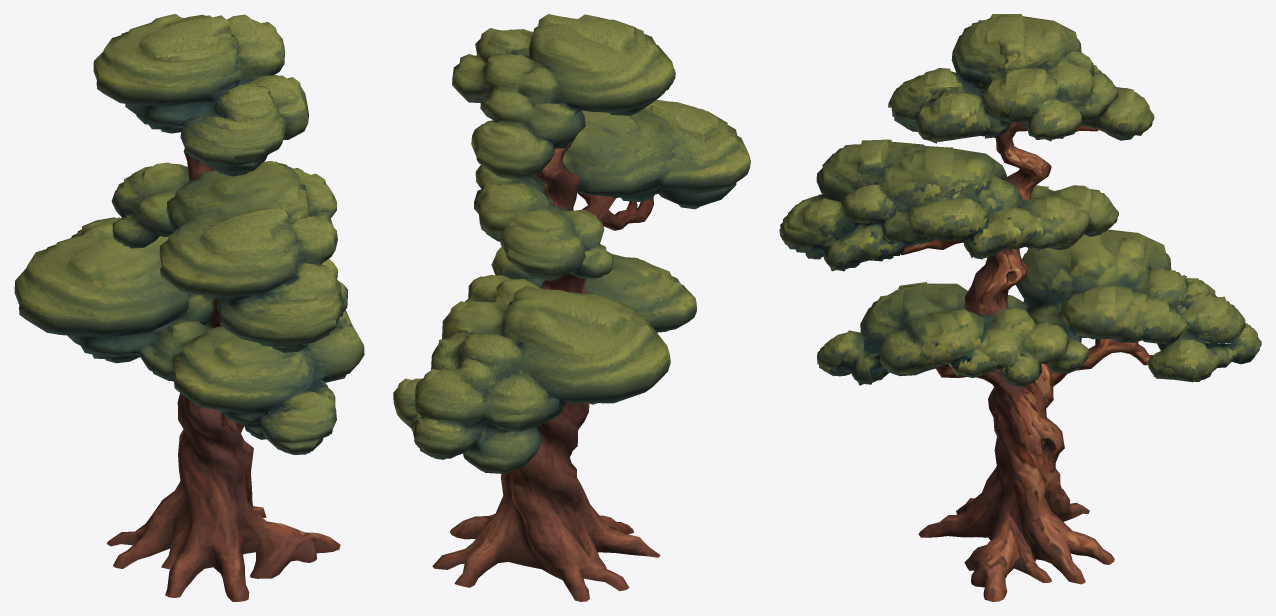
The model's file is output_model_url.glb.
3 renders of one model, left to right at view 1: azimuth 30°, elevation 25°; view 2: azimuth 150°, elevation 25°; view 3: azimuth 270°, elevation 25°, orthographic. The views are drawn at different scales.
Parts seen in each view (by area): view 1: tripo_node_baf4aadb-31b9-494d-bf35-247177fb557a; view 2: tripo_node_baf4aadb-31b9-494d-bf35-247177fb557a; view 3: tripo_node_baf4aadb-31b9-494d-bf35-247177fb557a.
Part boxes in pixels (bbox=[...]): tripo_node_baf4aadb-31b9-494d-bf35-247177fb557a: bbox=[14, 14, 364, 601]; tripo_node_baf4aadb-31b9-494d-bf35-247177fb557a: bbox=[393, 14, 750, 601]; tripo_node_baf4aadb-31b9-494d-bf35-247177fb557a: bbox=[779, 14, 1261, 601].
Size of the model in its own units: 0.4995 by 0.9995 by 0.8511.
1 material, 1 textured.
